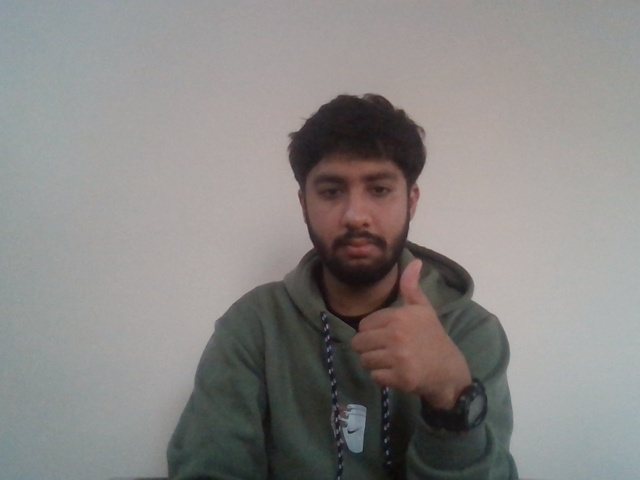Yes: (336, 256, 456, 387)
